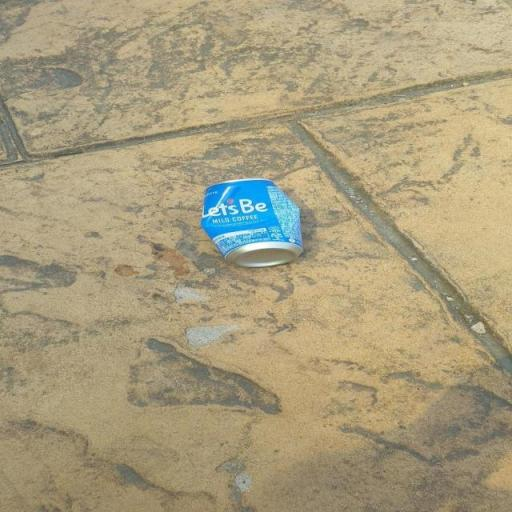metal: (185, 162, 364, 284)
